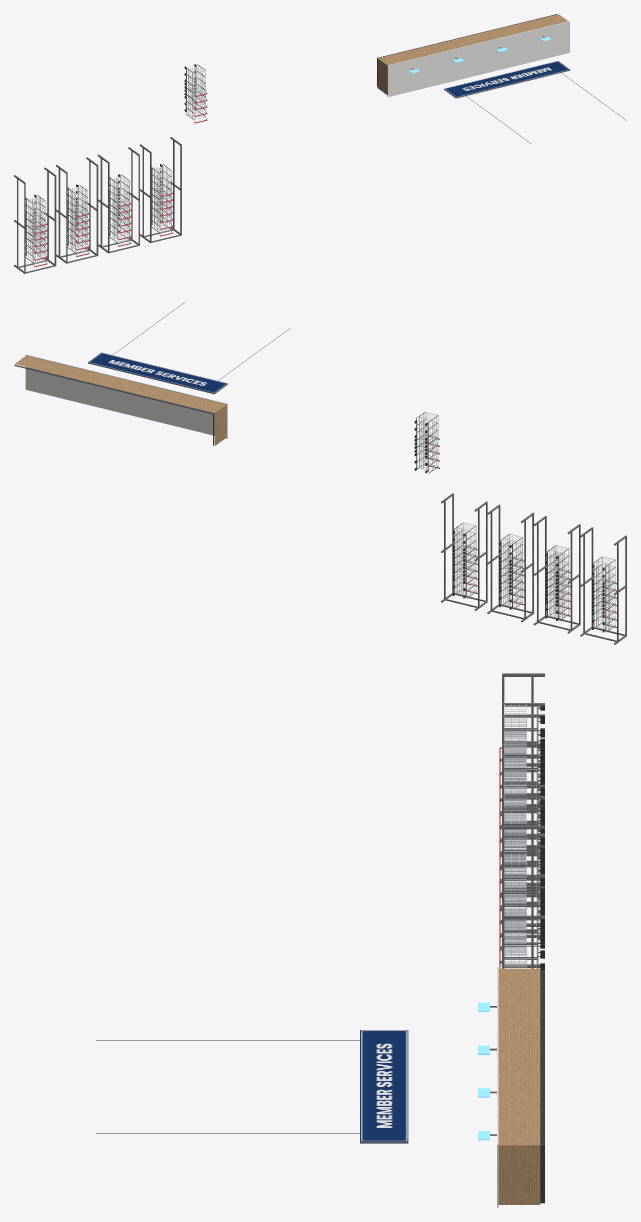
The model's file is front_east.gltf.
3 renders of one model, top to bottom at view 1: azimuth 30°, elevation 25°; view 2: azimuth 150°, elevation 25°; view 3: azimuth 270°, elevation 25°, orthographic. The views are drawn at different scales.
Visible parts, largest first — view 1: front_east; view 2: front_east; view 3: front_east.
Part boxes in pixels (x1,y1,x2,y2): front_east: [14, 14, 626, 273]; front_east: [14, 302, 626, 644]; front_east: [96, 673, 544, 1207].
Size of the model in its own units: 28.56 by 7.96 by 10.2.
10 materials, 3 textured.
